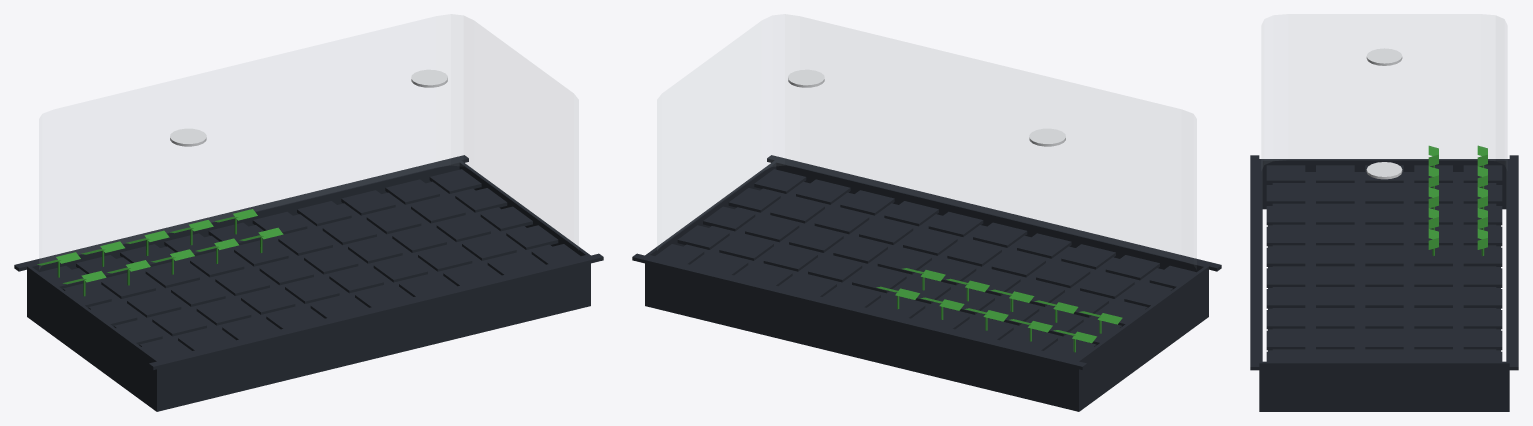
The model's file is clone-dome-tray.glb.
The picture shows the model from 3 angles, left to right: view 1: azimuth 30°, elevation 25°; view 2: azimuth 150°, elevation 25°; view 3: azimuth 270°, elevation 25°; orthographic projection. The views are drawn at different scales.
Parts seen in each view (by area): view 1: cell_insert, tray_base, sprouts, dome_vent_1, dome_vent_2; view 2: cell_insert, tray_base, sprouts, dome_vent_1, dome_vent_2; view 3: cell_insert, tray_base, sprouts, dome_vent_1, dome_vent_2.
Part boxes in pixels (x1,y1,x2,y2): cell_insert: (39, 169, 580, 359); tray_base: (14, 155, 603, 411); sprouts: (37, 209, 283, 296); dome_vent_1: (170, 128, 206, 146); dome_vent_2: (411, 69, 447, 87); cell_insert: (655, 169, 1196, 359); tray_base: (632, 155, 1221, 411); sprouts: (876, 268, 1122, 352); dome_vent_1: (1029, 128, 1065, 146); dome_vent_2: (788, 69, 824, 87); cell_insert: (1266, 165, 1502, 361); tray_base: (1250, 155, 1518, 411); sprouts: (1428, 145, 1487, 255); dome_vent_1: (1366, 48, 1402, 65); dome_vent_2: (1366, 162, 1402, 179).
Bounding box in the file's own units: 0.56 × 0.243 × 0.3.
